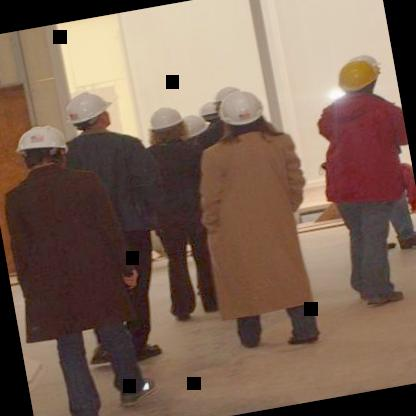helmet: (14, 120, 74, 174), (332, 51, 385, 99), (64, 89, 117, 136), (214, 87, 268, 133), (143, 102, 188, 144), (179, 109, 213, 143), (197, 100, 223, 124)
